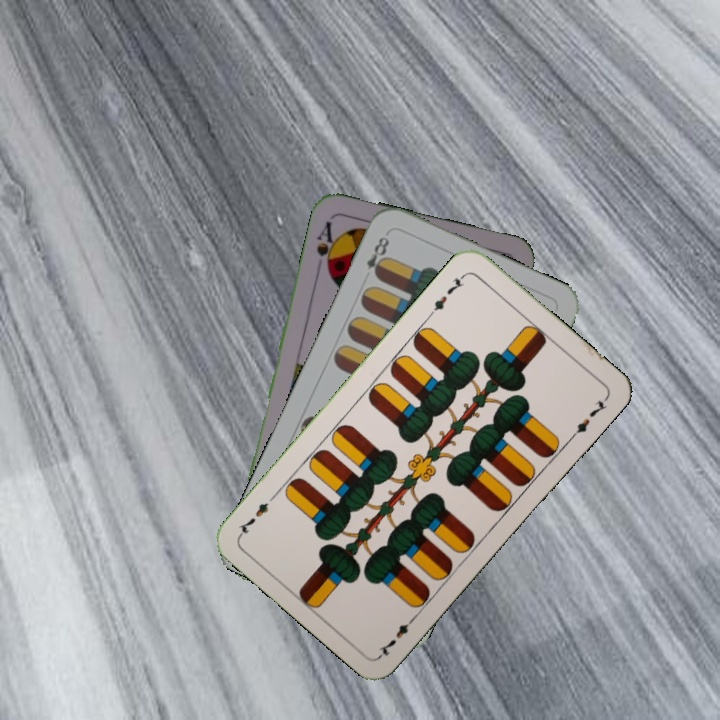E7: (374, 611, 420, 659), (425, 269, 469, 319)
E8: (362, 228, 392, 281)
SA: (312, 217, 340, 276)
